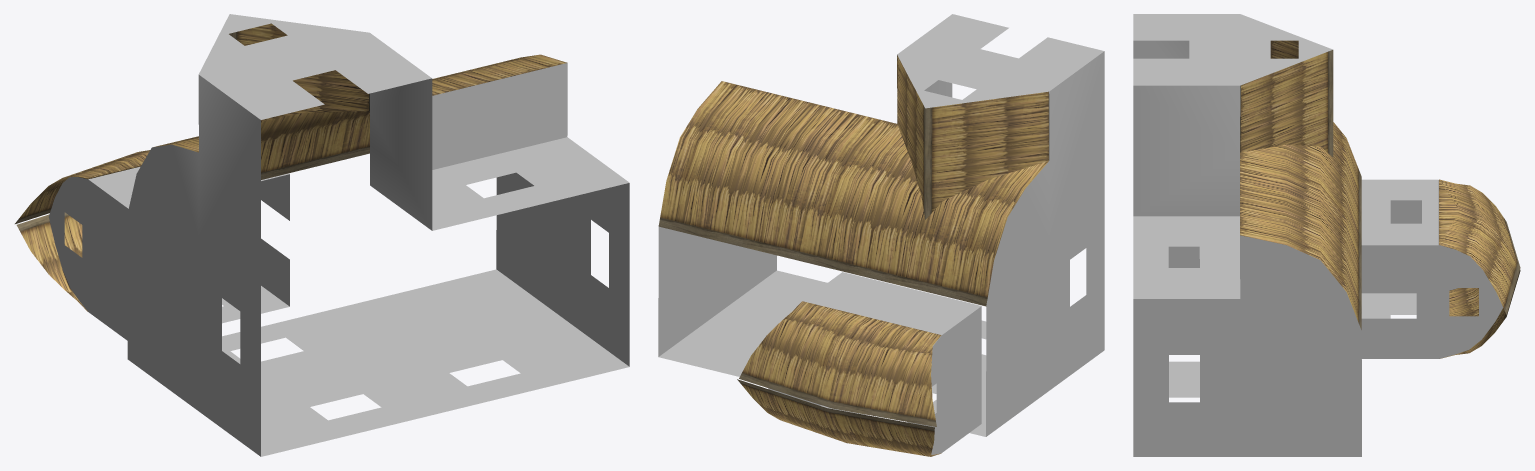
File: Pirate_House_Interior_Type01_F.fbx
The picture shows the model from 3 angles, left to right: view 1: azimuth 30°, elevation 25°; view 2: azimuth 150°, elevation 25°; view 3: azimuth 270°, elevation 25°; orthographic projection. The views are drawn at different scales.
Visible parts, largest first — view 1: Pirate_House_Interior_Type01_F; view 2: Pirate_House_Interior_Type01_F; view 3: Pirate_House_Interior_Type01_F.
Part boxes in pixels (x1=…): Pirate_House_Interior_Type01_F: x1=15, y1=14, x2=629, y2=456; Pirate_House_Interior_Type01_F: x1=658, y1=14, x2=1104, y2=456; Pirate_House_Interior_Type01_F: x1=1133, y1=14, x2=1520, y2=456.
Size of the model in its own units: 14.9 by 12.05 by 14.64.
